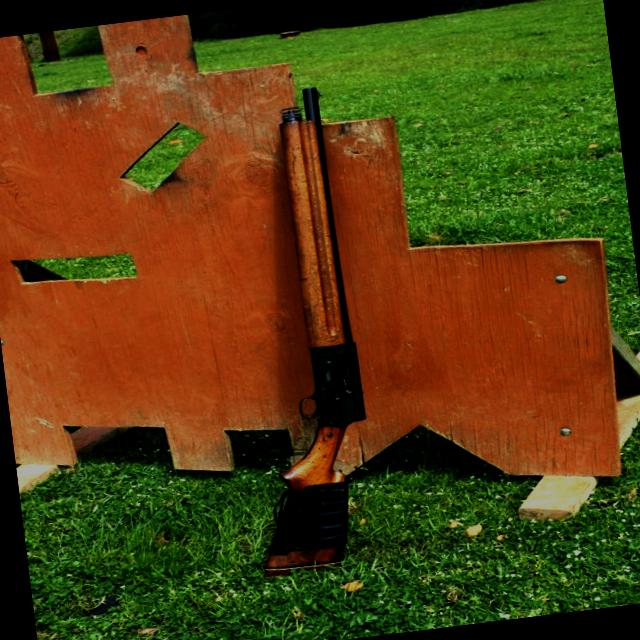shotgun: (162, 66, 416, 599)
